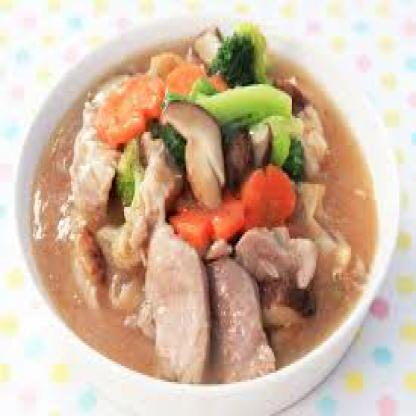Laadna: (32, 37, 374, 390)
